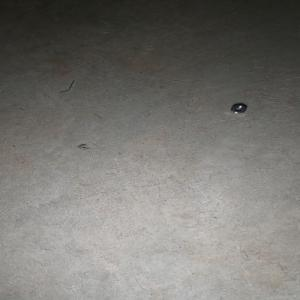Nut: (230, 103, 248, 113)
